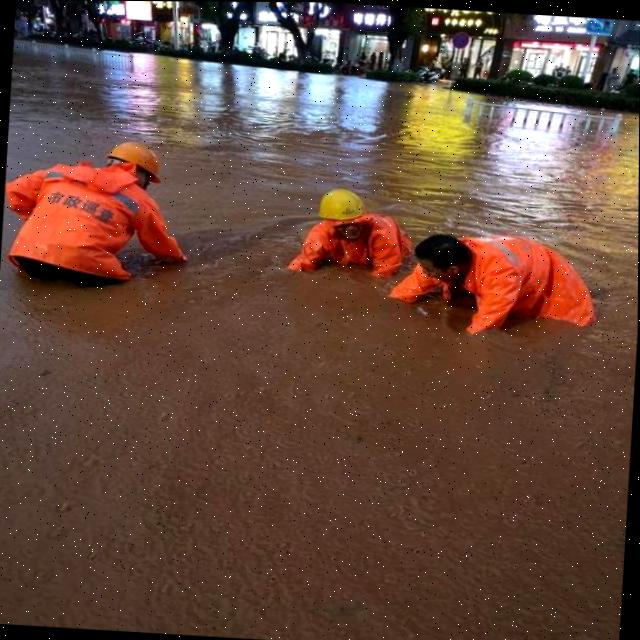rescuer: (3, 118, 206, 306), (381, 209, 612, 353), (271, 169, 425, 300)
